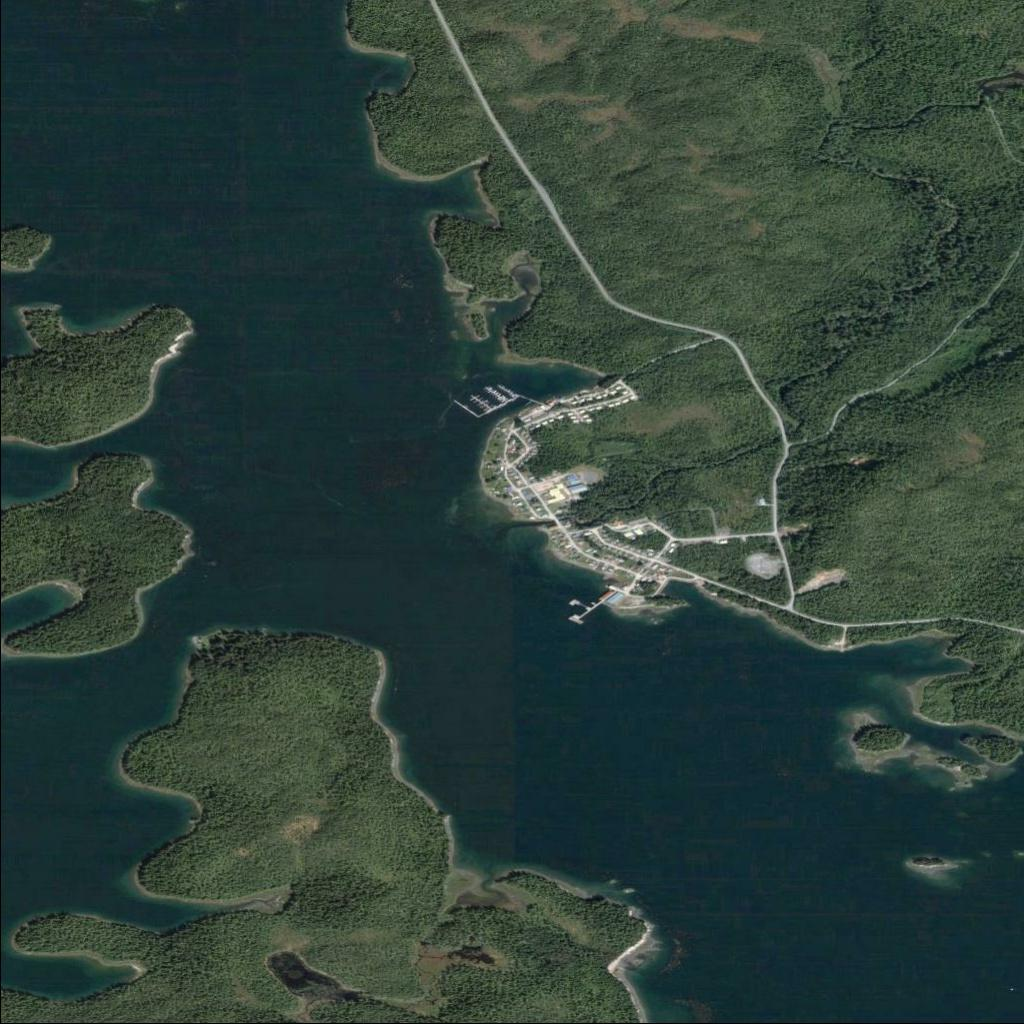harbor: (483, 384, 508, 403), (468, 392, 493, 410)
